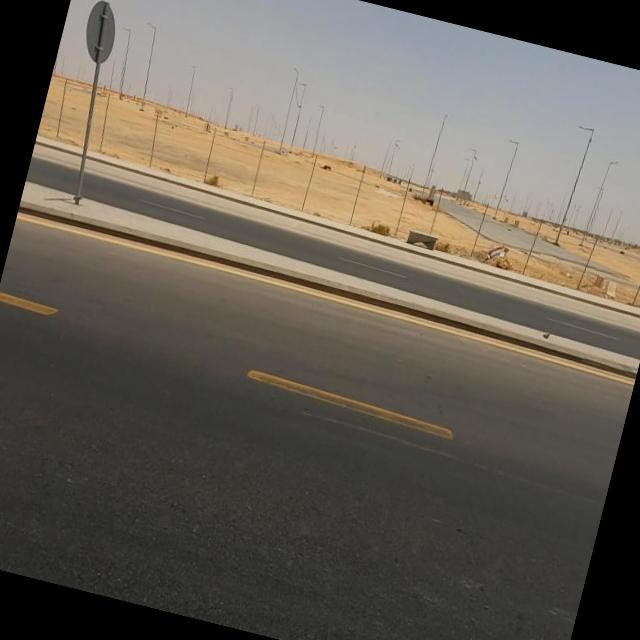debris: (458, 220, 528, 294)
